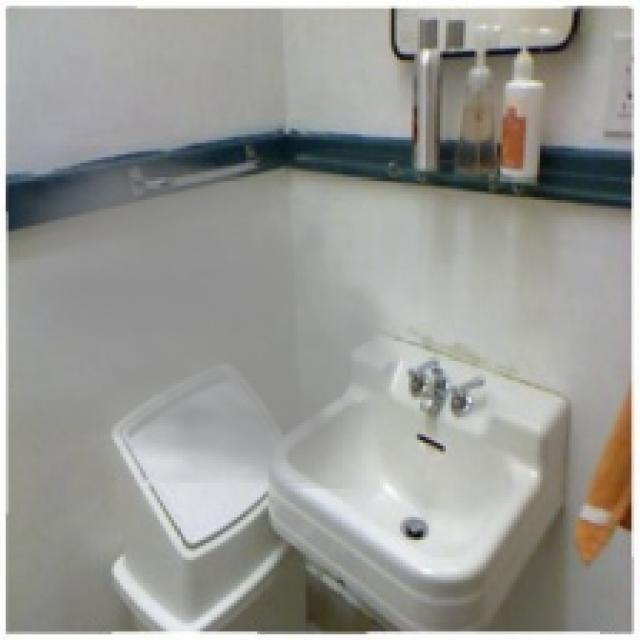Smoke: (6, 146, 420, 488)
